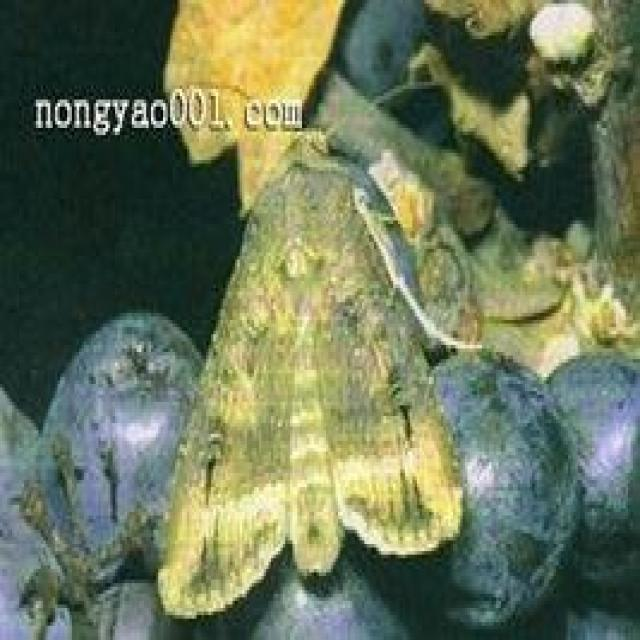black cutworm: (157, 136, 488, 620)
